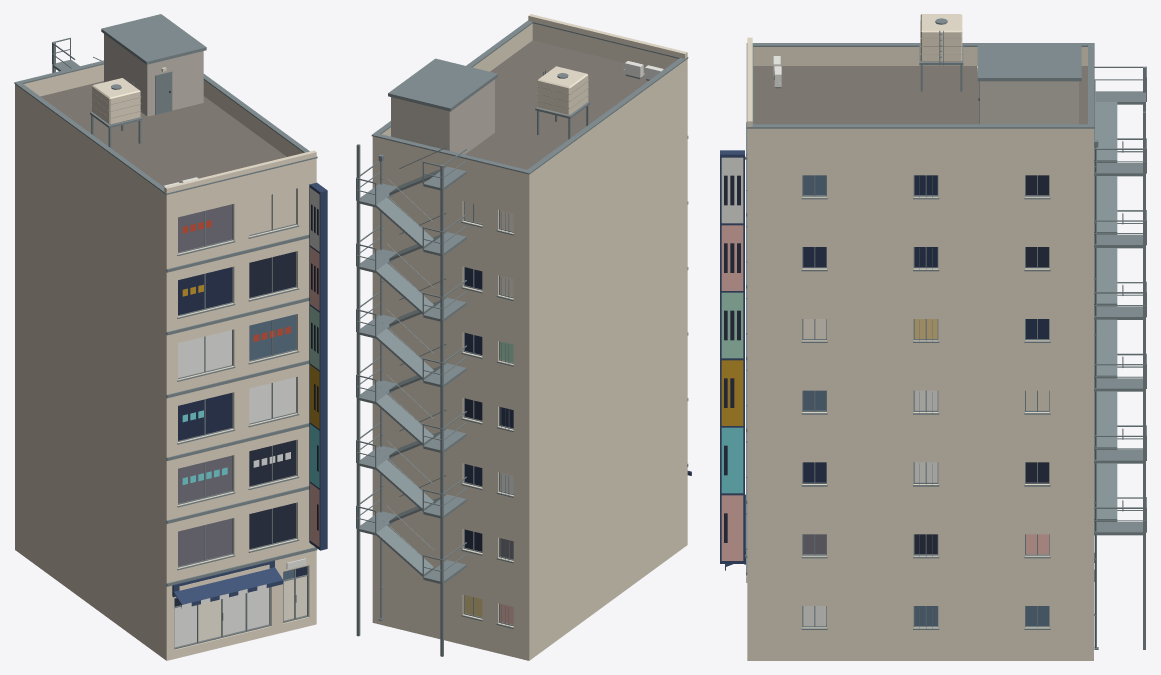
File: tb_tenant_building_7f_01_c.fbx
3 renders of one model, left to right at view 1: azimuth 30°, elevation 25°; view 2: azimuth 150°, elevation 25°; view 3: azimuth 270°, elevation 25°, orthographic. The views are drawn at different scales.
Parts seen in each view (by area): view 1: tb_tenant_building_7f_01_c; view 2: tb_tenant_building_7f_01_c; view 3: tb_tenant_building_7f_01_c.
Boxes of the visible parts, x1=… form: tb_tenant_building_7f_01_c: x1=14, y1=14, x2=327, y2=660; tb_tenant_building_7f_01_c: x1=356, y1=14, x2=691, y2=660; tb_tenant_building_7f_01_c: x1=720, y1=14, x2=1146, y2=660.
Size of what is drawn, in the model's own units: 8.09 by 25.75 by 17.24.
Materials: 3 (3 with a texture image).
